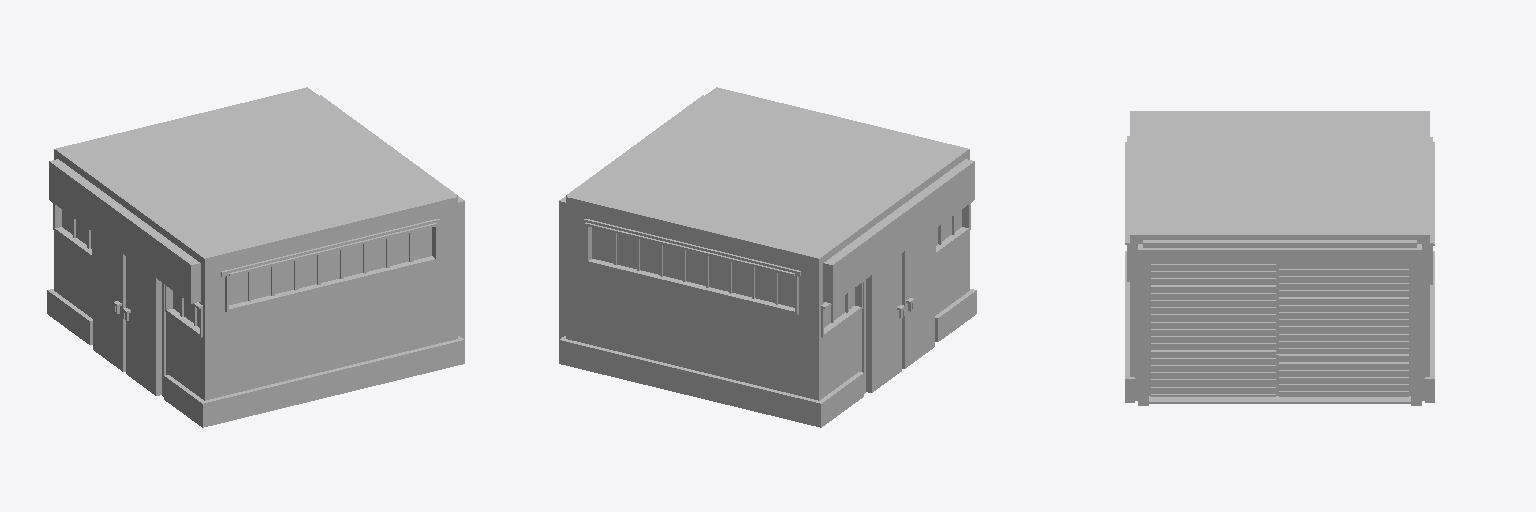
File: Warehouse obj.obj
The picture shows the model from 3 angles: view 1: azimuth 30°, elevation 25°; view 2: azimuth 150°, elevation 25°; view 3: azimuth 270°, elevation 25°; orthographic projection.
Parts seen in each view (by area): view 1: object 1; view 2: object 1; view 3: object 1.
Part boxes in pixels (bbox=[...]): object 1: bbox=[47, 87, 464, 427]; object 1: bbox=[559, 87, 976, 427]; object 1: bbox=[1125, 111, 1434, 405].
Size of the model in its own units: 12 by 6.9 by 11.7.